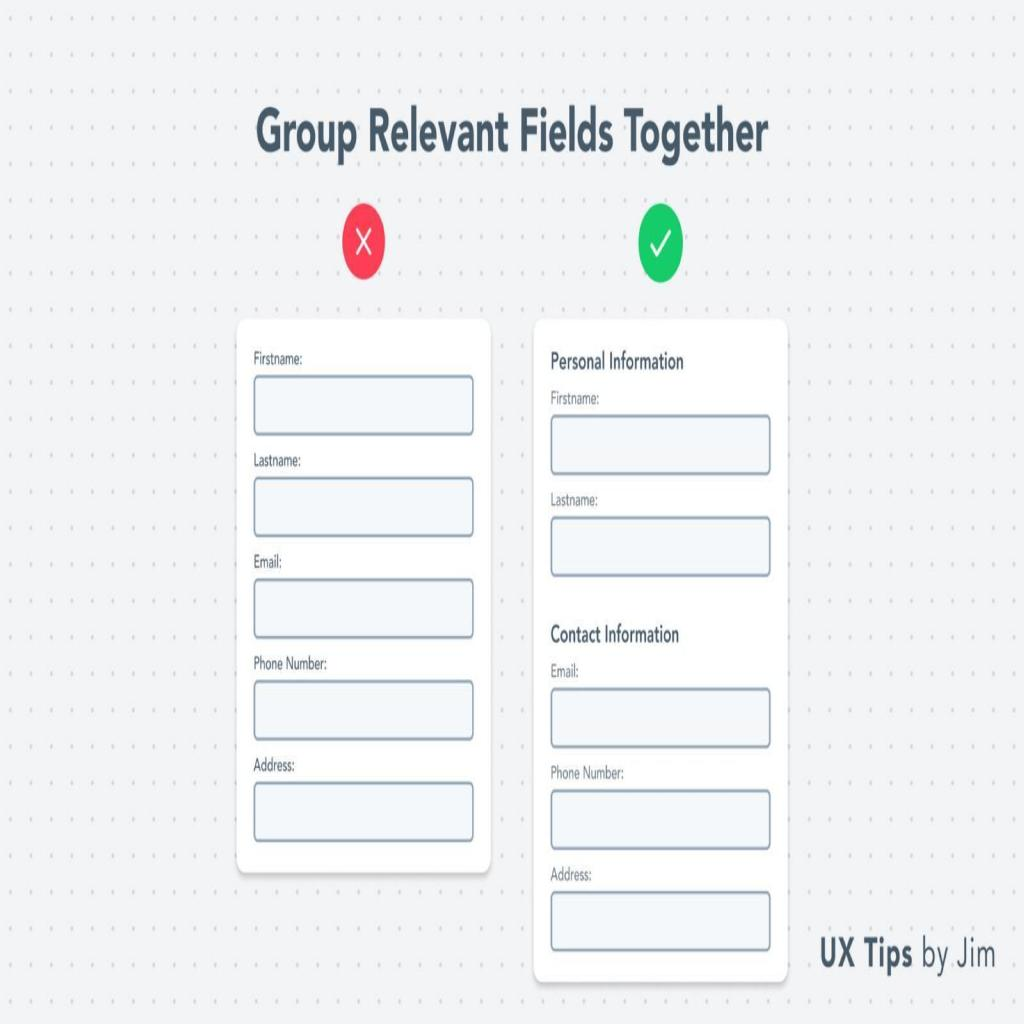input: (550, 687, 770, 750), (254, 579, 474, 640), (552, 416, 770, 476), (550, 791, 770, 850), (254, 682, 474, 740), (255, 782, 473, 840), (552, 894, 769, 951), (551, 518, 769, 574), (254, 376, 474, 430), (256, 480, 474, 534)
label: (549, 762, 626, 788), (252, 656, 328, 677), (546, 486, 600, 512), (251, 447, 301, 471), (252, 346, 303, 369), (547, 386, 600, 408), (550, 864, 592, 888), (252, 757, 296, 776), (251, 553, 283, 573), (548, 664, 579, 682)
